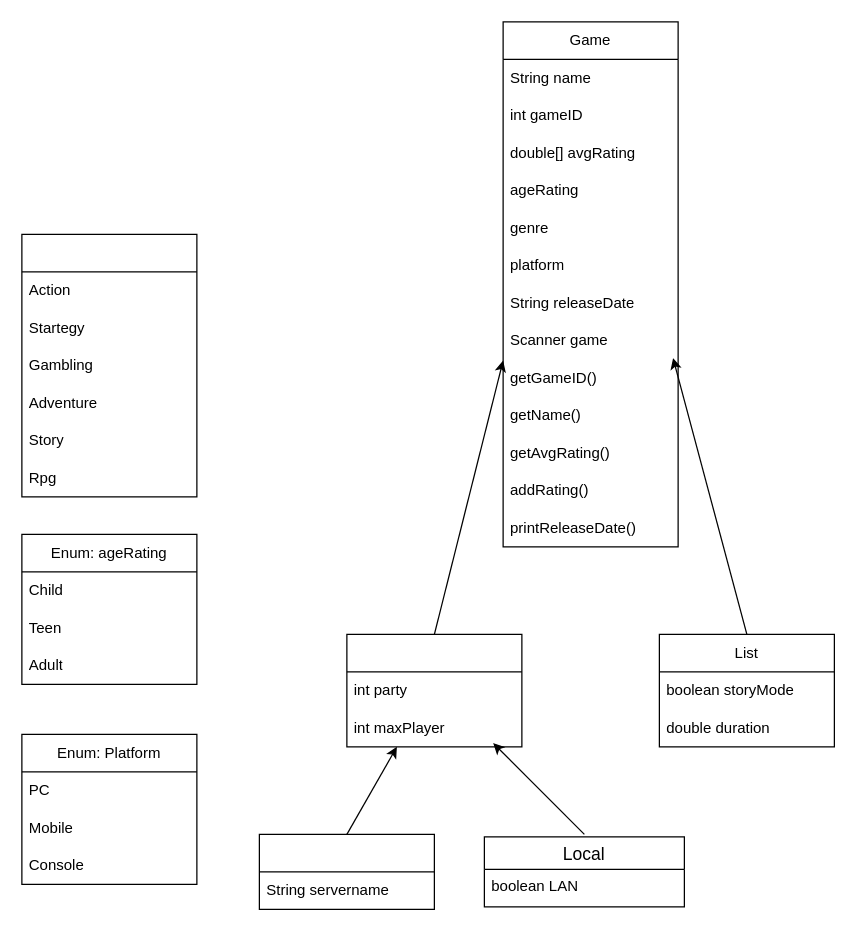
This 856x933 diagram has some shape labels left out. The shapes that lost their labels are listed below. From the top down, each one's box as (x1, y1, x2, y2) in pixels, then its label:
(21, 233, 197, 497): Enum: genre
(346, 633, 522, 747): Multiplayer
(258, 833, 434, 909): Online
